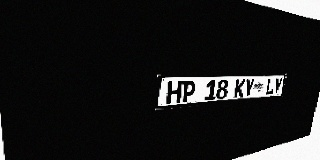plate: (155, 74, 287, 110)
